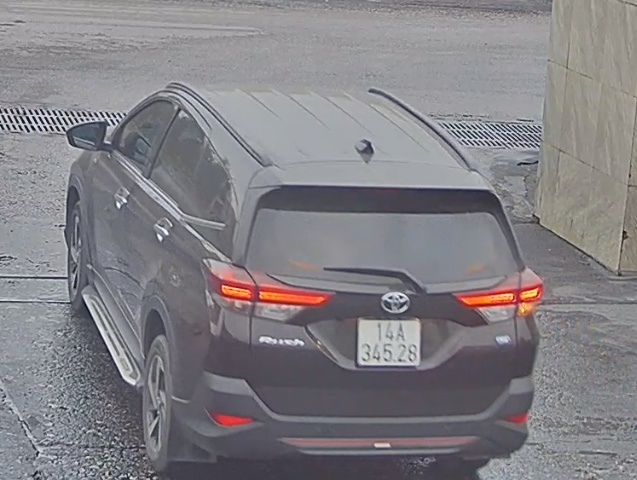vehicle plate: (361, 313, 422, 370)
